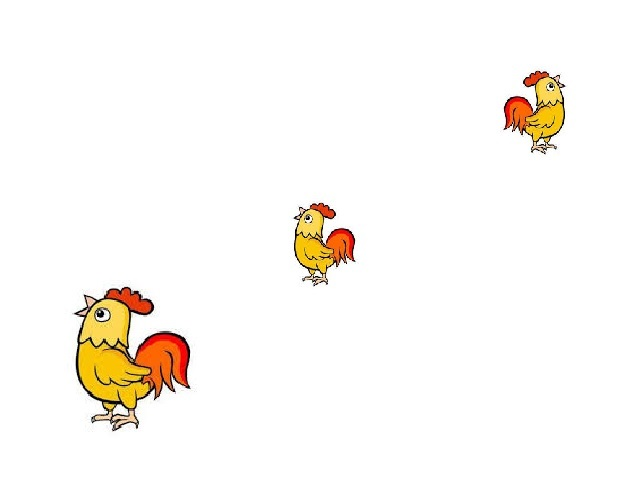crown: (106, 286, 153, 319), (310, 205, 336, 218), (524, 70, 546, 84)
eyes: (96, 307, 109, 320), (303, 213, 314, 226), (544, 80, 555, 91)
feet: (95, 408, 142, 435), (299, 269, 330, 291), (532, 140, 561, 162)
tail: (134, 337, 191, 400), (329, 229, 352, 264), (505, 99, 529, 129)
